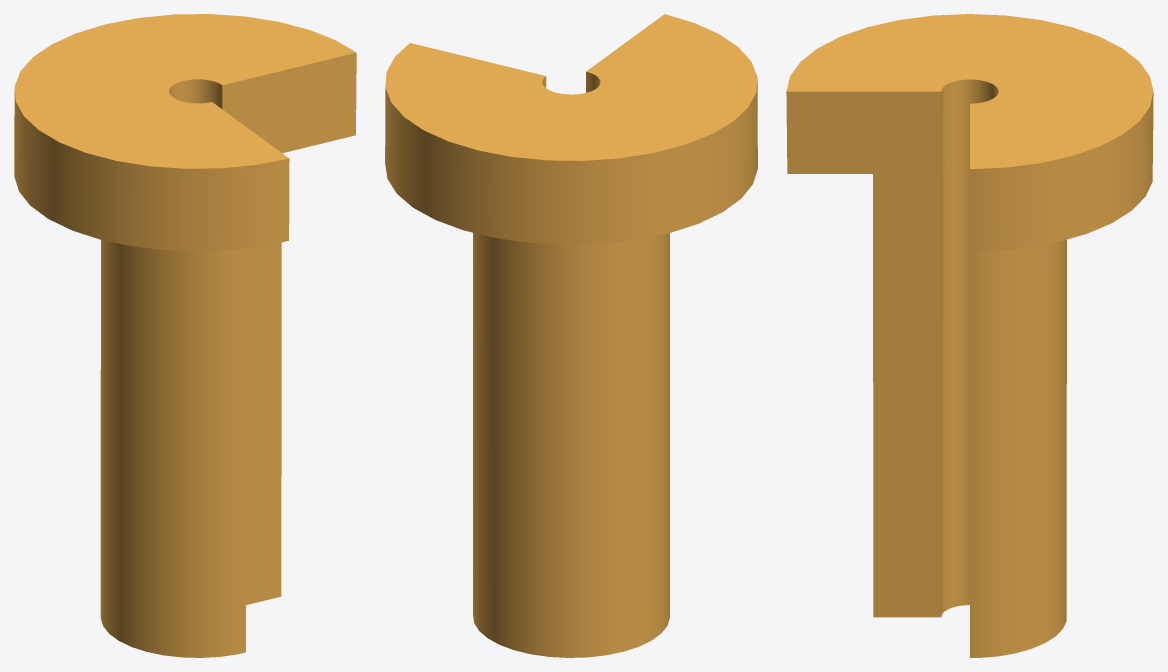
File: Guide ressort blanc.glb
3 views of the same model, side by side, from view 1: azimuth 30°, elevation 25°; view 2: azimuth 150°, elevation 25°; view 3: azimuth 270°, elevation 25° (orthographic).
Size of the model in its own units: 40.32 by 63.7 by 40.32.
